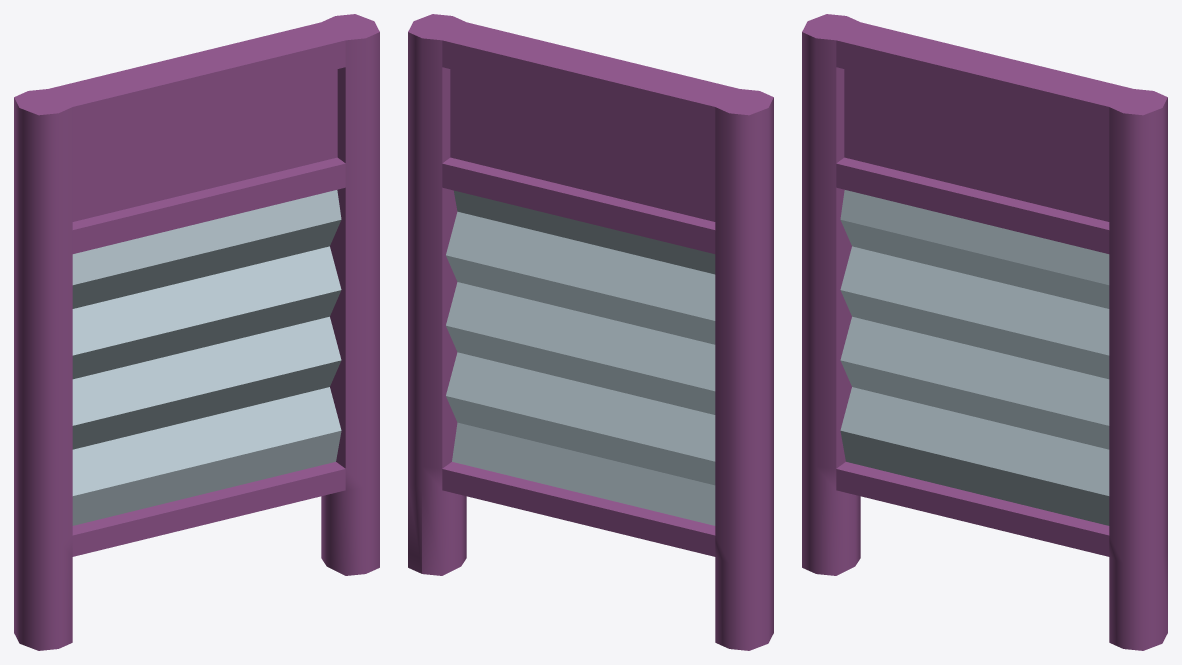
The model's file is Washboard.fbx.
3 views of the same model, side by side, from view 1: azimuth 30°, elevation 25°; view 2: azimuth 150°, elevation 25°; view 3: azimuth 330°, elevation 25° (orthographic).
Visible parts, largest first — view 1: Washboard; view 2: Washboard; view 3: Washboard.
Boxes of the visible parts, <box> form: Washboard: <box>14,14,379,650</box>; Washboard: <box>408,14,773,650</box>; Washboard: <box>802,14,1167,650</box>.
Bounding box in the file's own units: 16.64 × 24 × 2.48.
